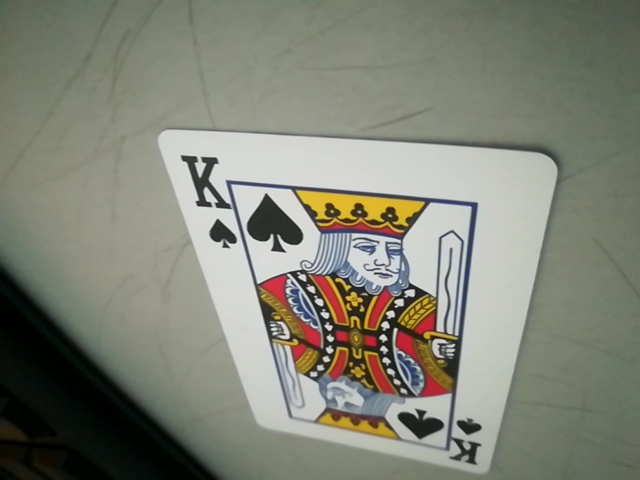ht k: (174, 143, 247, 251)
